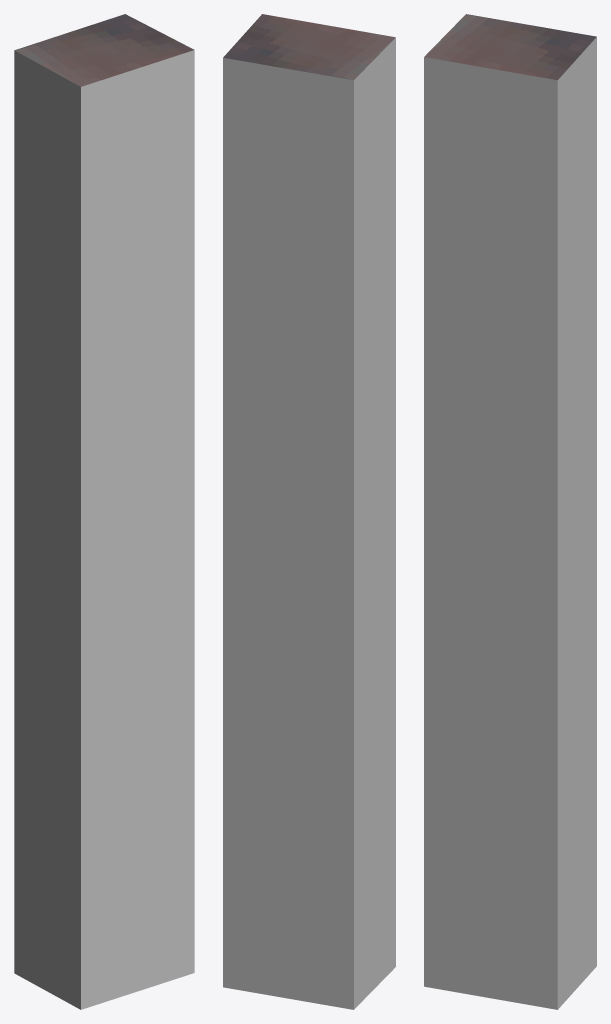
The model's file is DEBW_0010007THvl.gltf.
3 views of the same model, side by side, from view 1: azimuth 30°, elevation 25°; view 2: azimuth 150°, elevation 25°; view 3: azimuth 330°, elevation 25° (orthographic).
Visible parts, largest first — view 1: Z_UP; view 2: Z_UP; view 3: Z_UP.
Part boxes in pixels (box(x1,y1,x2,y2)): Z_UP: box(14, 14, 194, 1009); Z_UP: box(223, 14, 395, 1009); Z_UP: box(424, 14, 596, 1009).
Size of the model in its own units: 2.4 by 15.59 by 1.95.
Materials: 2 (1 with a texture image).
